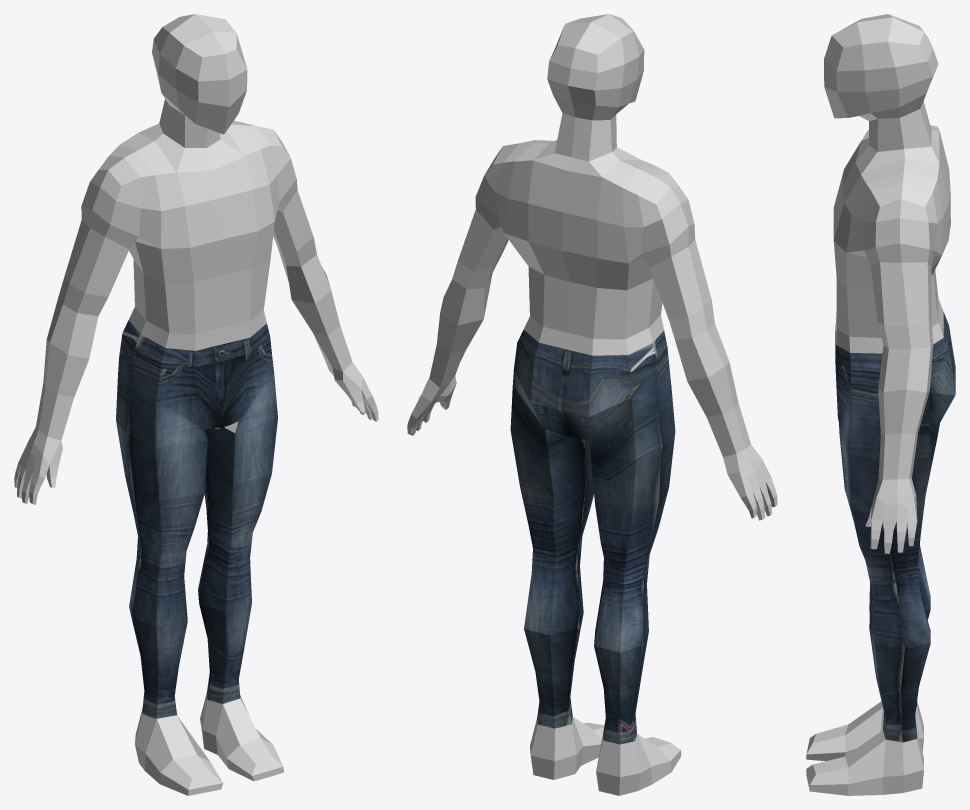
File: pantalondama.fbx
The picture shows the model from 3 angles, left to right: view 1: azimuth 30°, elevation 25°; view 2: azimuth 150°, elevation 25°; view 3: azimuth 270°, elevation 25°; orthographic projection.
Visible parts, largest first — view 1: Cube; view 2: Cube; view 3: Cube.
Part boxes in pixels (x1,y1,x2,y2): Cube: (14,14,378,795); Cube: (407,14,777,795); Cube: (806,14,955,795).
Bounding box in the file's own units: 0.9898 × 2.01 × 0.3616.
Materials: 3 (2 with a texture image).
